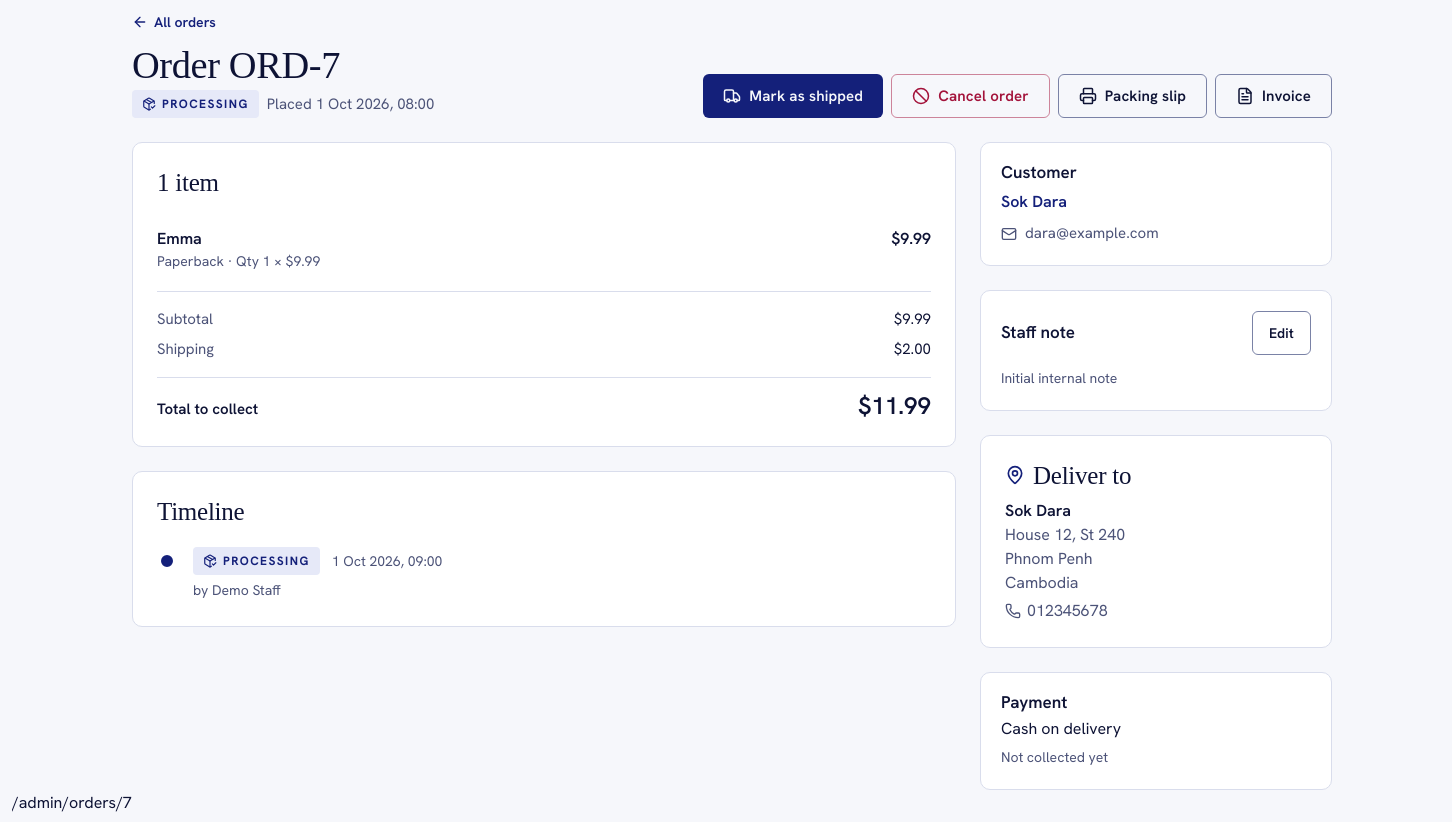
Test case: orders › edits, saves, cancels, and handles errors on staff note
Expected: the text "Initial internal note" is shown, [1001,369,1117,387]
// Cancel edit
Click the button "Edit" at (1281, 333), box [1252,311,1311,355]
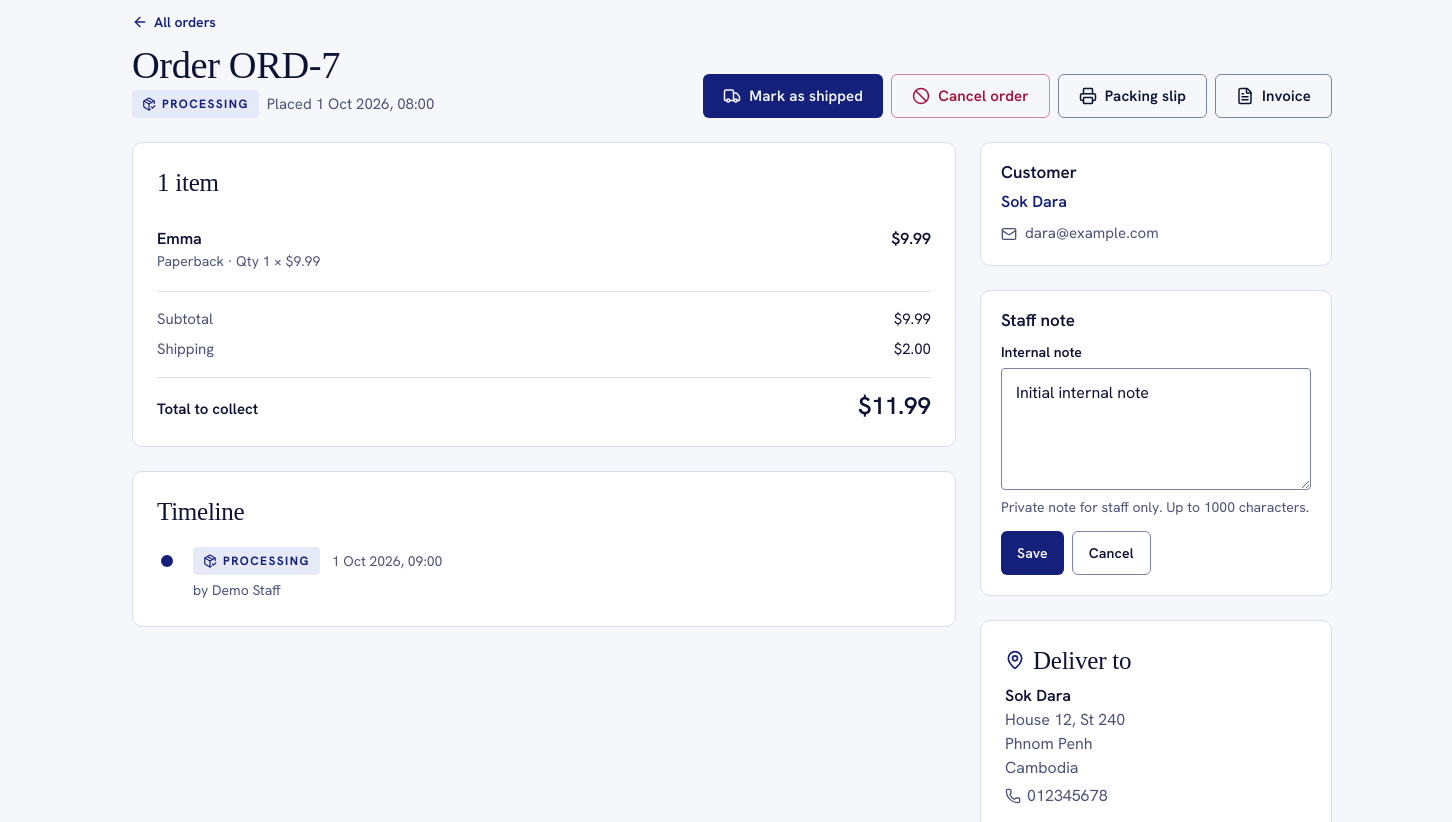
Replace the text in the text box labelled "Internal note" with "Discarded note" at (1156, 429), box [1001,368,1311,490]
Click the button "Cancel" at (1111, 552), box [1072,530,1151,574]
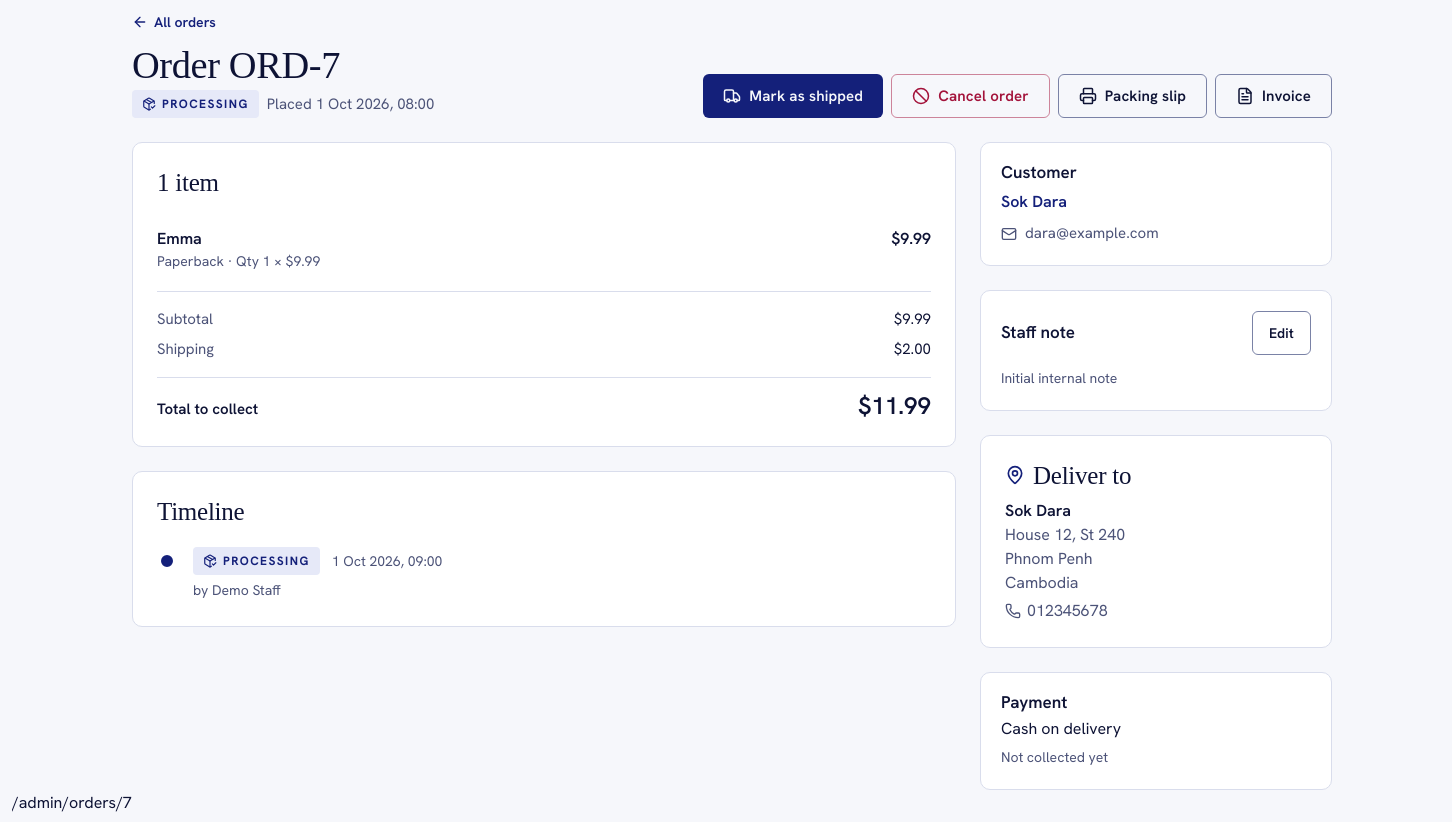
Result: the text "Initial internal note" is shown at [1001,369,1117,387]
Click the button "Edit" at (1281, 333), box [1252,311,1311,355]
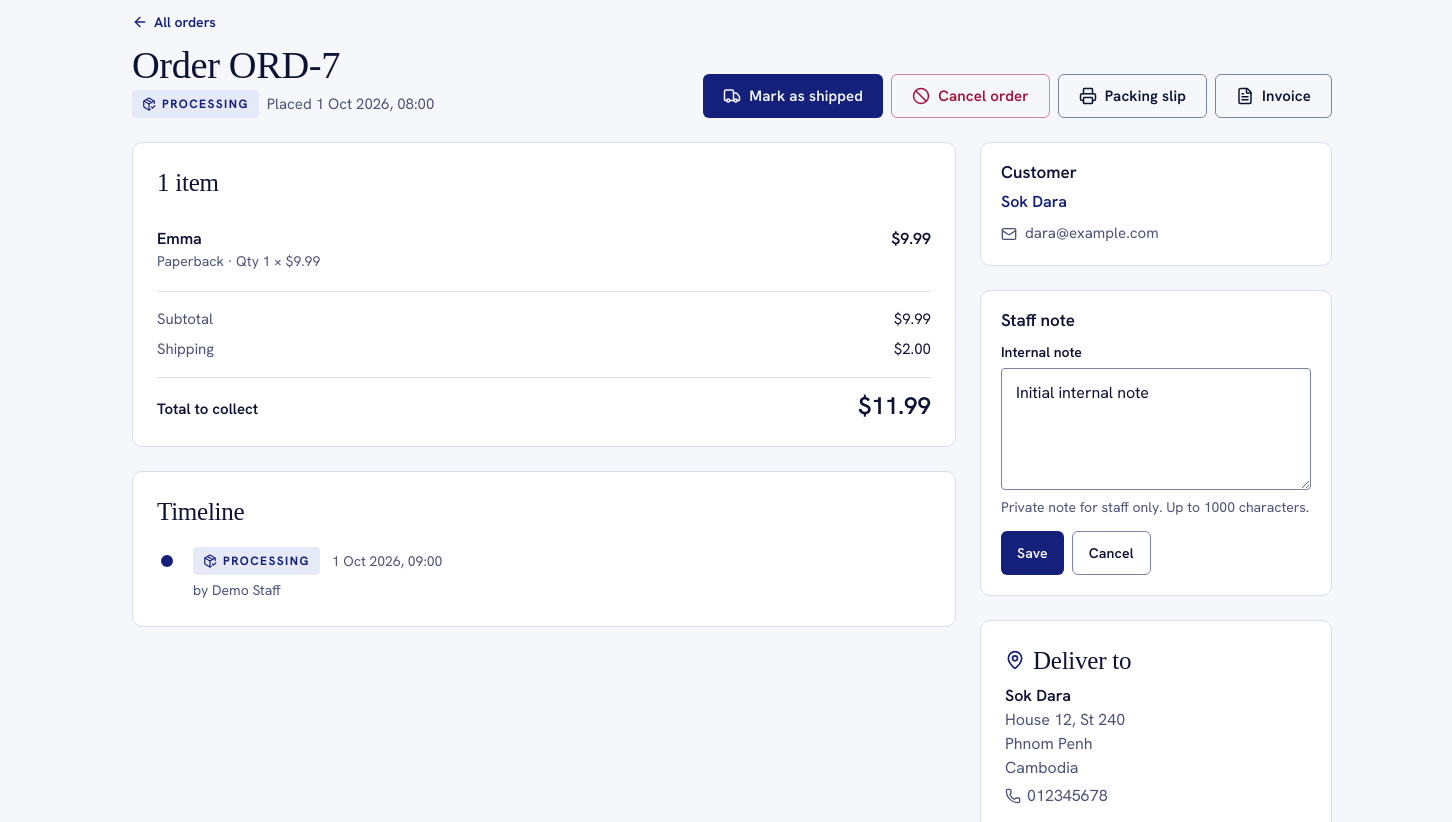
Click the button "Save" at (1032, 552), box [1001,530,1064,574]
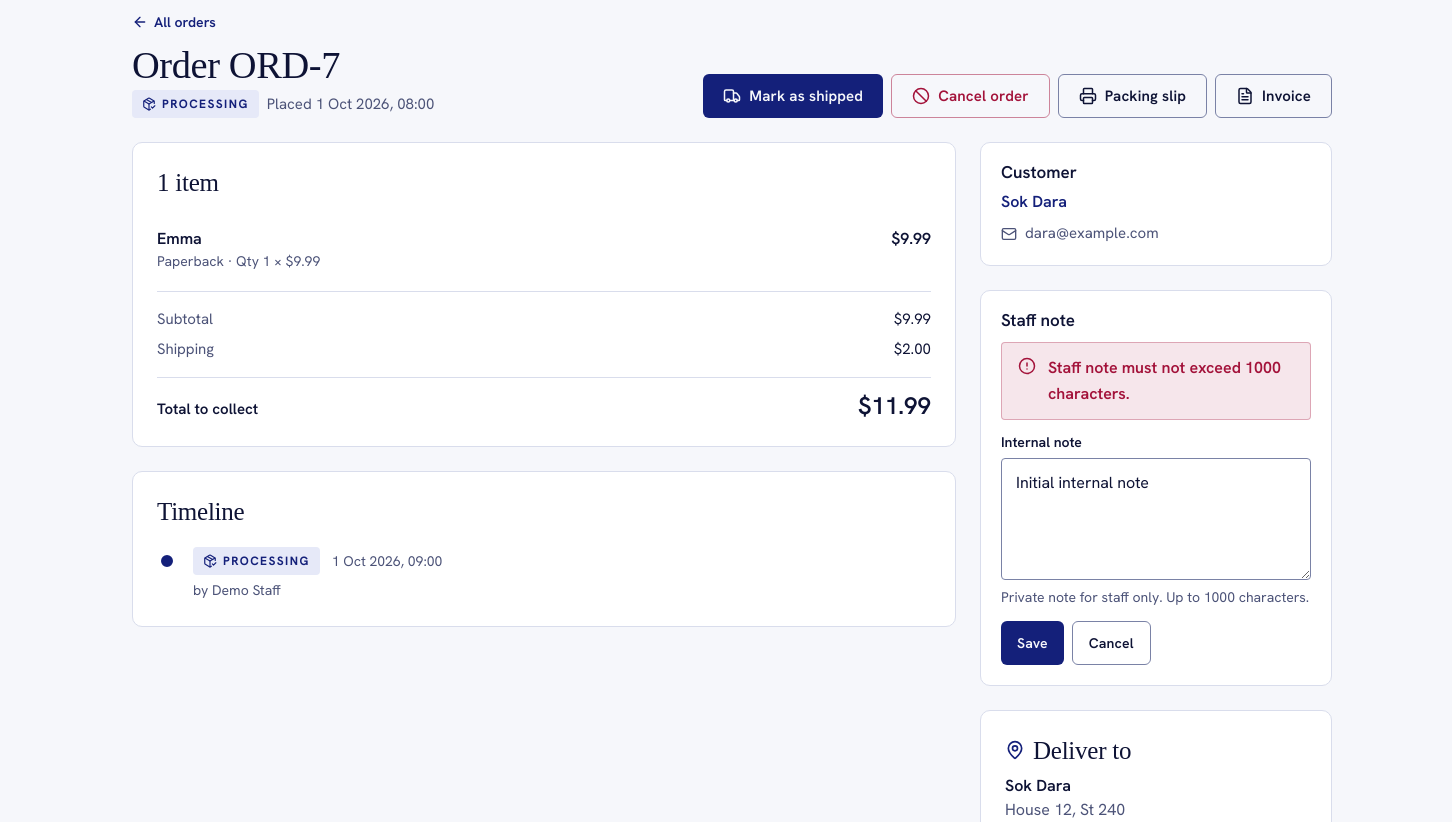
Result: the text "Staff note must not exceed 1000 characters." is shown at [1048,355,1294,407]
Replace the text in the text box labelled "Internal note" with "Updated note" at (1156, 519), box [1001,458,1311,580]
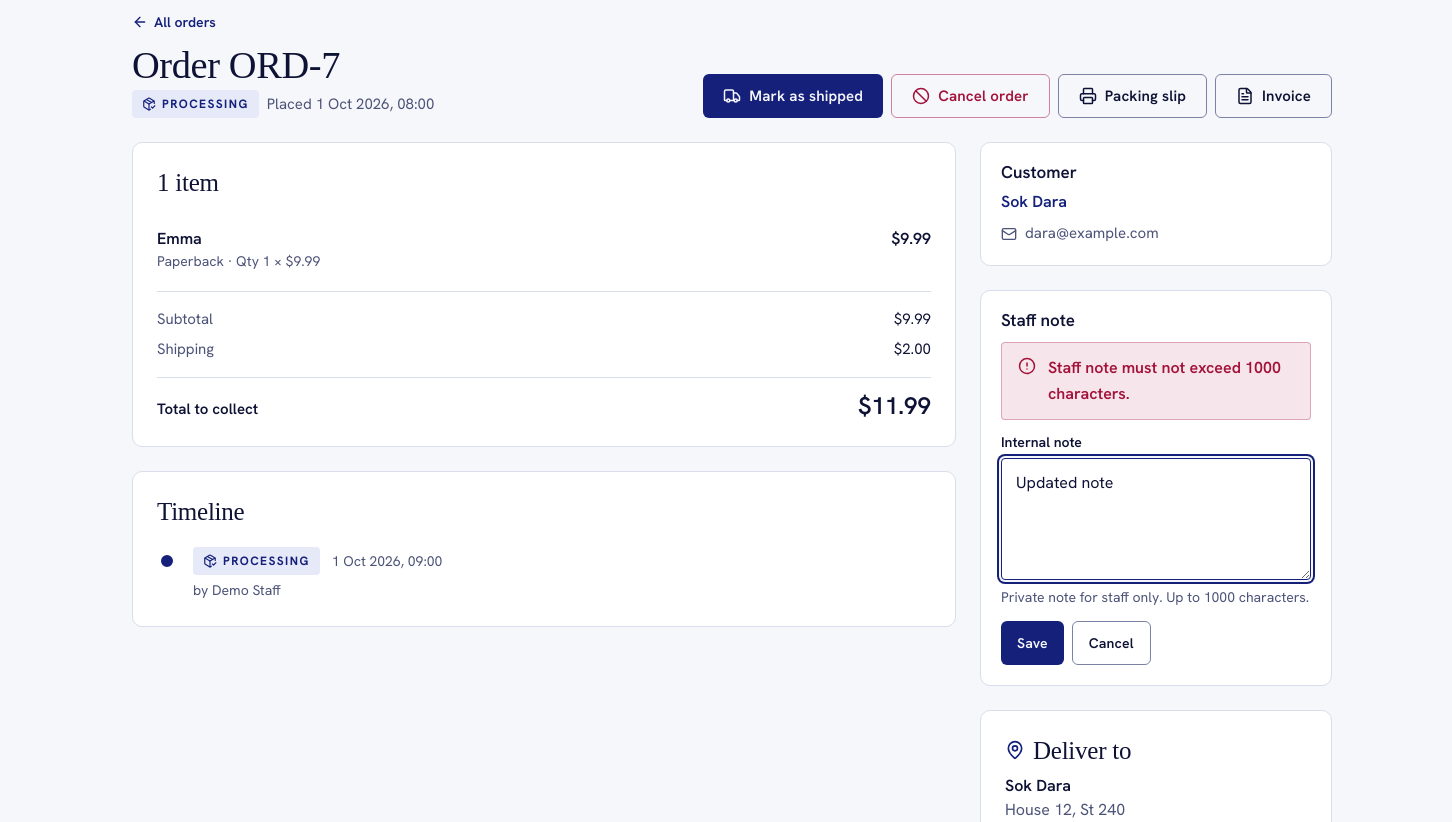
Click the button "Save" at (1032, 642), box [1001,620,1064,664]
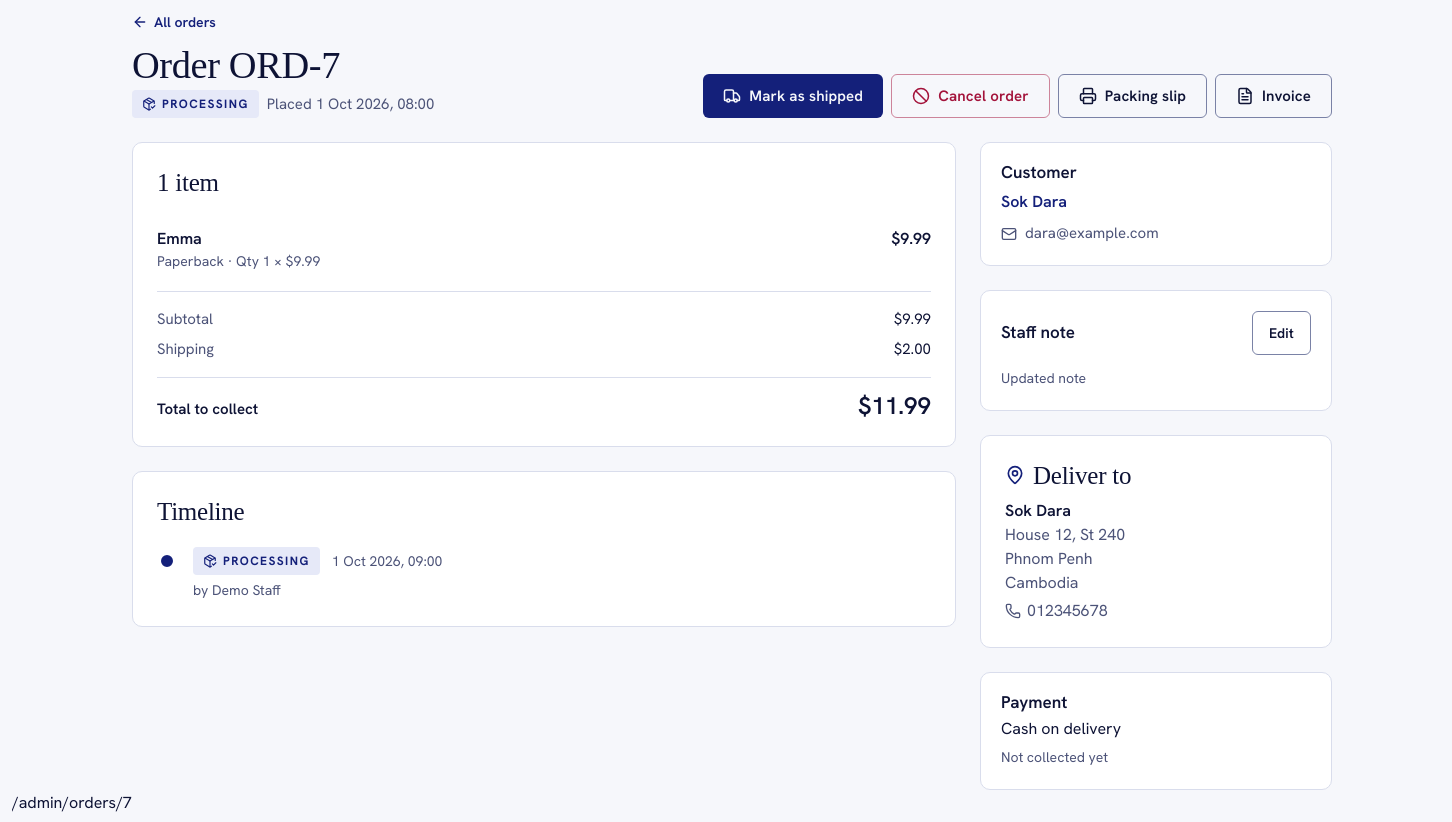
Result: the text "Updated note" is shown at [1001,369,1086,387]
